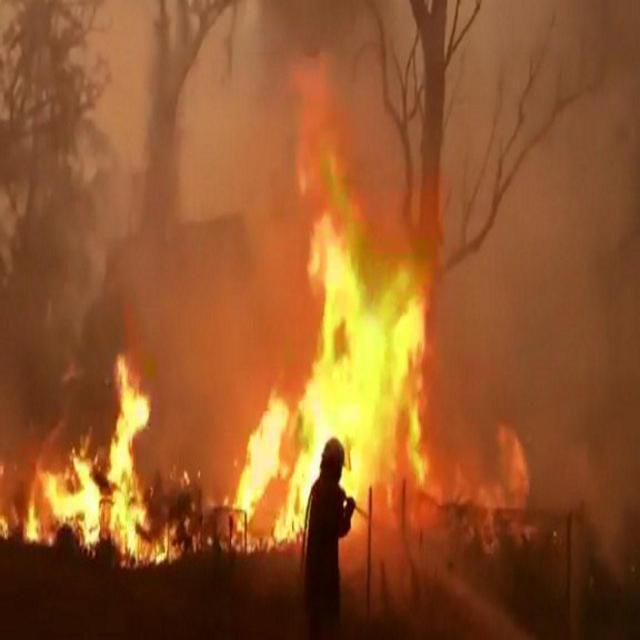Fire: (237, 47, 433, 594), (0, 348, 174, 572), (446, 424, 537, 564)
Smoke: (441, 1, 640, 414), (0, 5, 235, 342), (544, 420, 640, 614), (241, 1, 437, 48), (179, 357, 226, 480)
